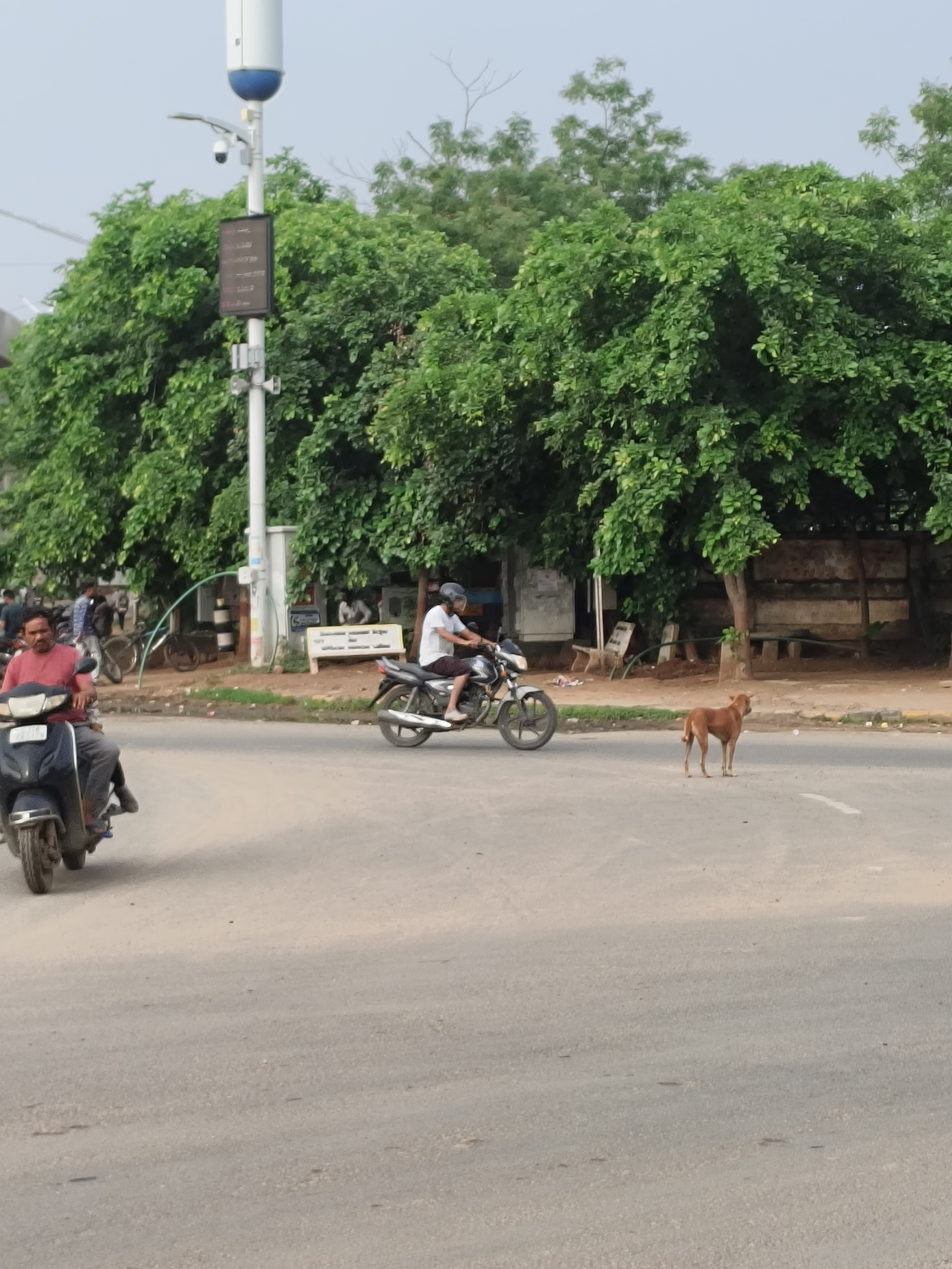BikeWithRider: (0, 604, 141, 899), (366, 577, 562, 756)
Helmet: (432, 578, 472, 619)
NoHelmet: (15, 606, 63, 660)
